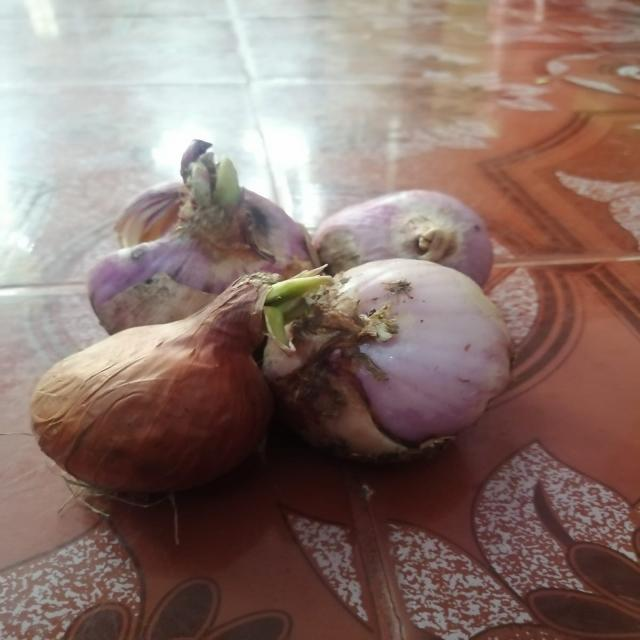rotten: (276, 362, 372, 454), (320, 238, 358, 266)
sprouting: (176, 141, 250, 225), (260, 280, 320, 339)
